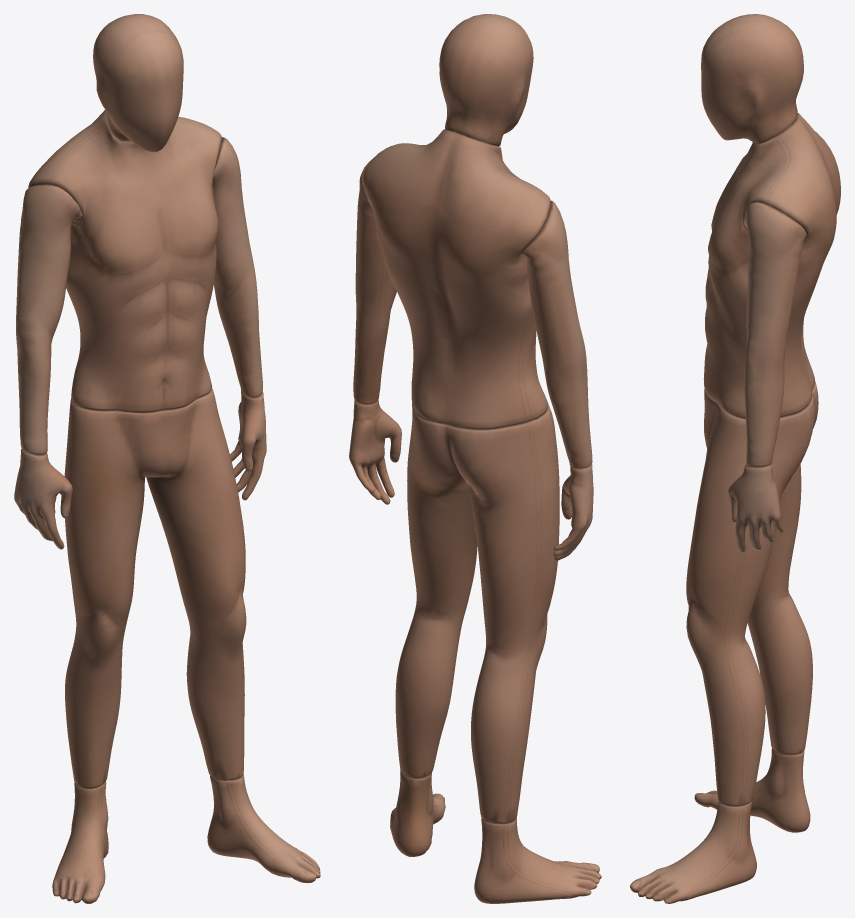
Rendered from mannequin_man_idle_opt.glb.
3 renders of one model, left to right at view 1: azimuth 30°, elevation 25°; view 2: azimuth 150°, elevation 25°; view 3: azimuth 270°, elevation 25°, orthographic. The views are drawn at different scales.
Parts seen in each view (by area): view 1: Ch36; view 2: Ch36; view 3: Ch36.
Part boxes in pixels (bbox=[...]): Ch36: bbox=[14, 14, 320, 903]; Ch36: bbox=[349, 14, 601, 903]; Ch36: bbox=[630, 14, 840, 903].
Size of the model in its own units: 0.5281 by 1.75 by 0.4066.
1 material, 1 textured.
